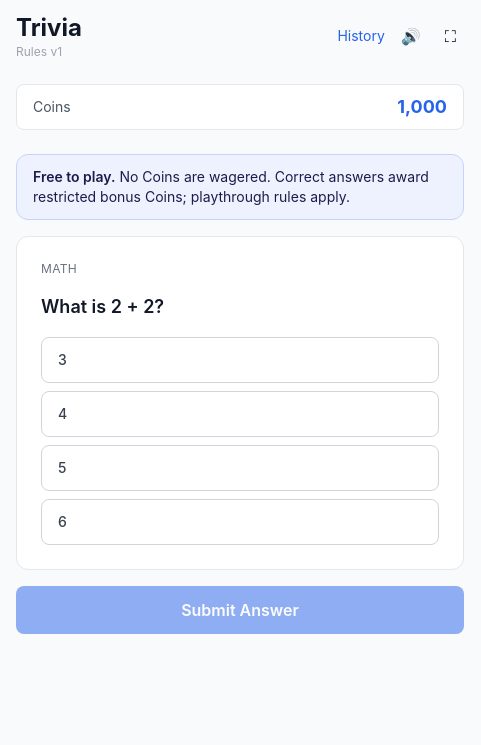
Test case: TriviaGamePage › a retry after a failed submission reuses the EXACT SAME idempotency key
Expected: the heading "What is 2 + 2?" is shown, [41,296,164,317]
Click the button "4". click: (63, 414)
box: [41,391,439,437]
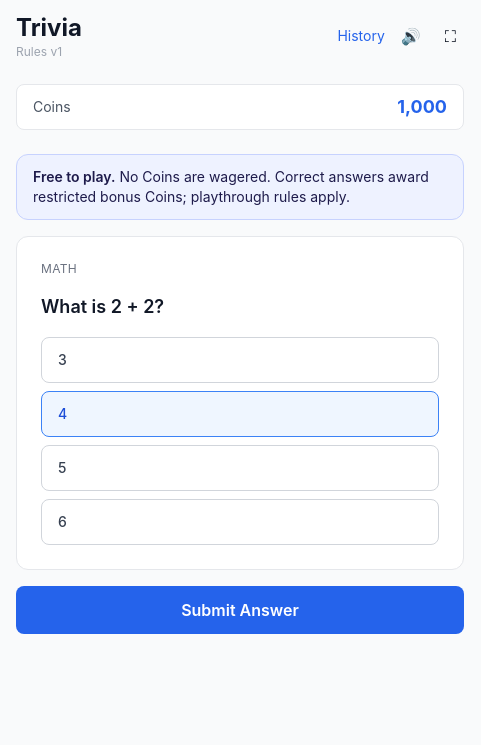
Click the button "Submit Answer". click: (240, 610)
box: [16,586,464,634]
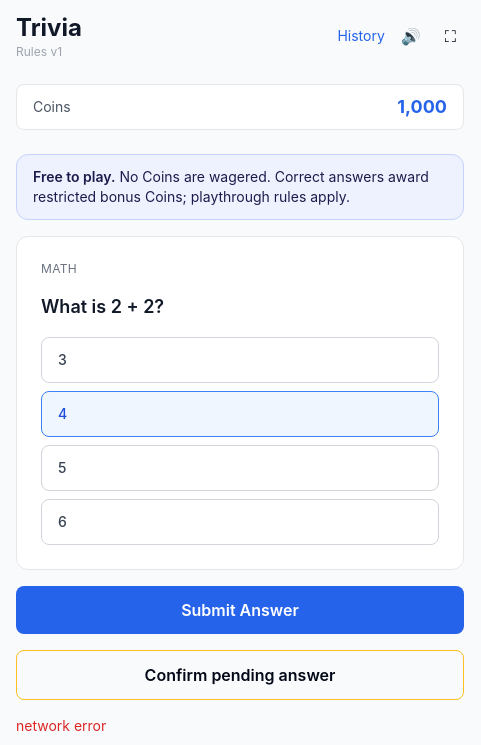
Now the button "Submit Answer" is enabled
Click the button "Submit Answer". click: (240, 610)
box: [16,586,464,634]
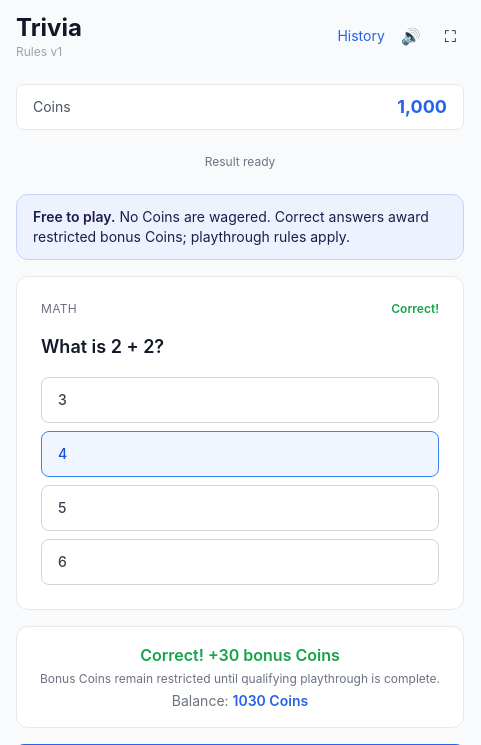
Now the text "Correct! +30 bonus Coins" is shown, box [140,645,340,665]
